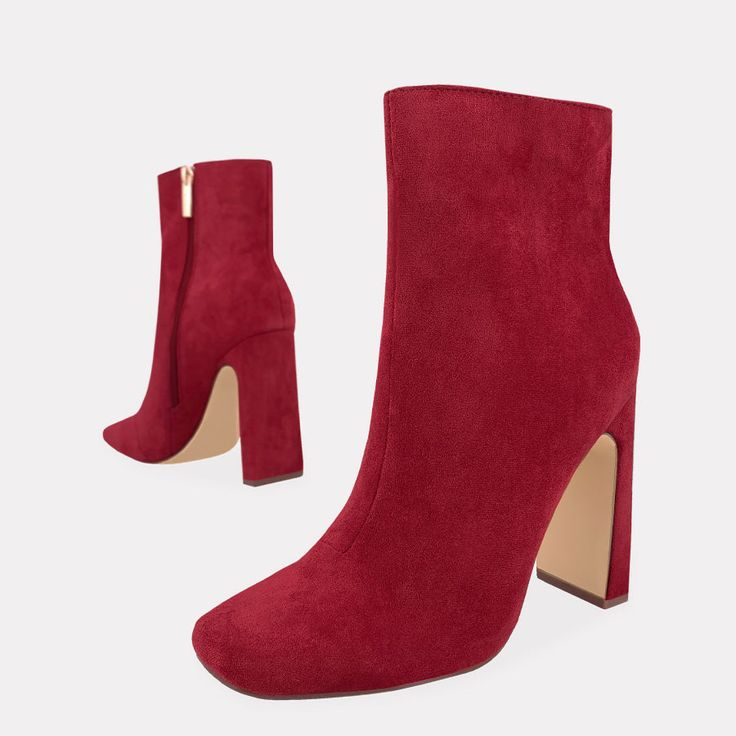gamuza: (102, 84, 641, 700)
